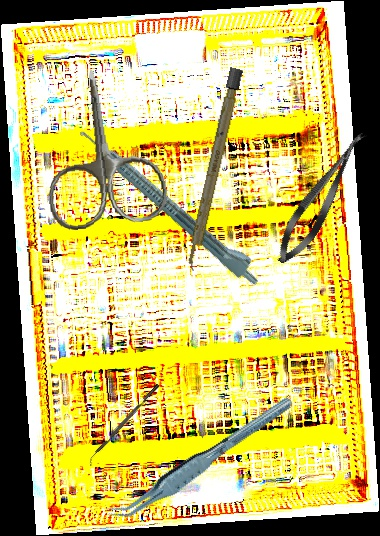Chopper: (84, 383, 164, 467)
Handpiece: (75, 117, 269, 291)
Iris Scissors: (33, 62, 171, 233)
Micro Scissor: (267, 124, 376, 271)
Scalpel Handle: (183, 67, 244, 272)
Tissue Forceps: (97, 395, 305, 526)
